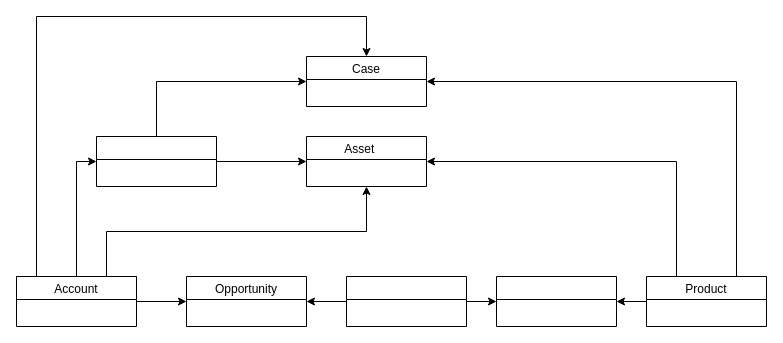
The diagram is 783 pixels wide and 343 high, and some of its shapes have lost their labels. Each missing label, with the centre of its shape:
"Contact" belongs at pixel 156 161.
"PriceBook" belongs at pixel 406 301.
"PriceBookEntry" belongs at pixel 556 301.
